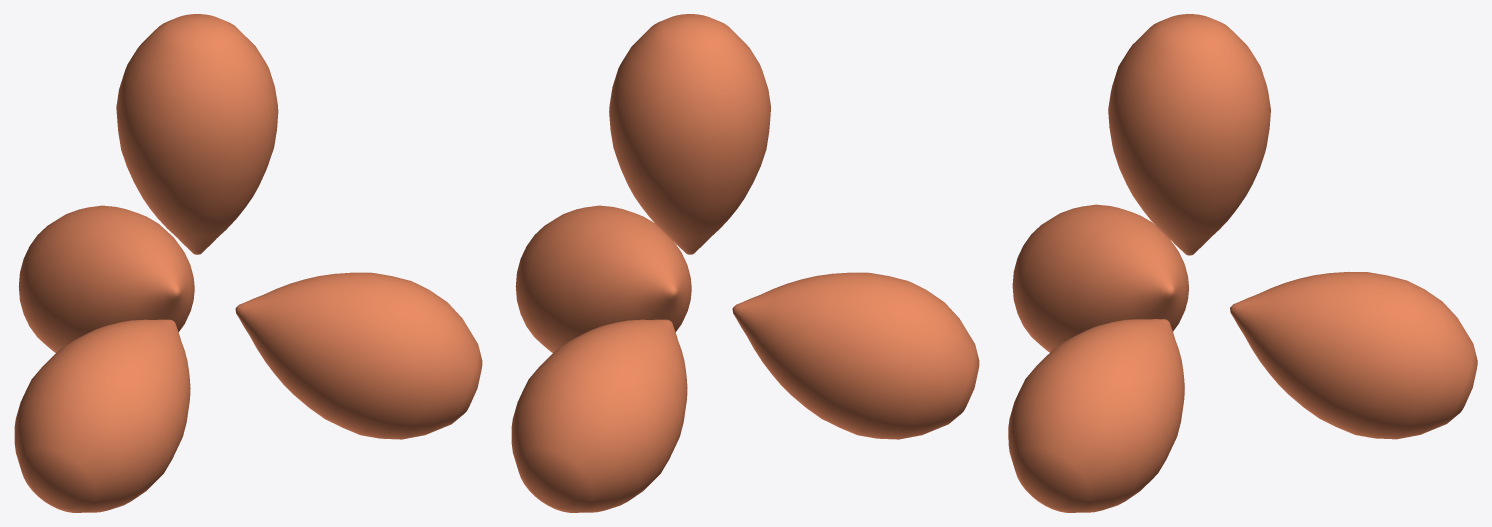
3 views of the same model, side by side, from view 1: azimuth 30°, elevation 25°; view 2: azimuth 150°, elevation 25°; view 3: azimuth 270°, elevation 25° (orthographic).
Visible parts, largest first — view 1: orbital 1.002, orbital 1, orbital 1.003, orbital 1.001; view 2: orbital 1.003, orbital 1, orbital 1.001, orbital 1.002; view 3: orbital 1.001, orbital 1, orbital 1.002, orbital 1.003.
Part boxes in pixels (x1,y1,x2,y2): orbital 1.002: [235, 272, 482, 439]; orbital 1: [116, 14, 278, 254]; orbital 1.003: [14, 319, 190, 512]; orbital 1.001: [18, 205, 194, 352]; orbital 1.003: [732, 272, 979, 439]; orbital 1: [609, 14, 770, 254]; orbital 1.001: [511, 319, 687, 512]; orbital 1.002: [515, 205, 691, 352]; orbital 1.001: [1230, 272, 1477, 439]; orbital 1: [1108, 14, 1270, 255]; orbital 1.002: [1008, 319, 1184, 512]; orbital 1.003: [1012, 204, 1188, 352].
Bounding box in the file's own units: 2.54 × 2.23 × 2.3.
